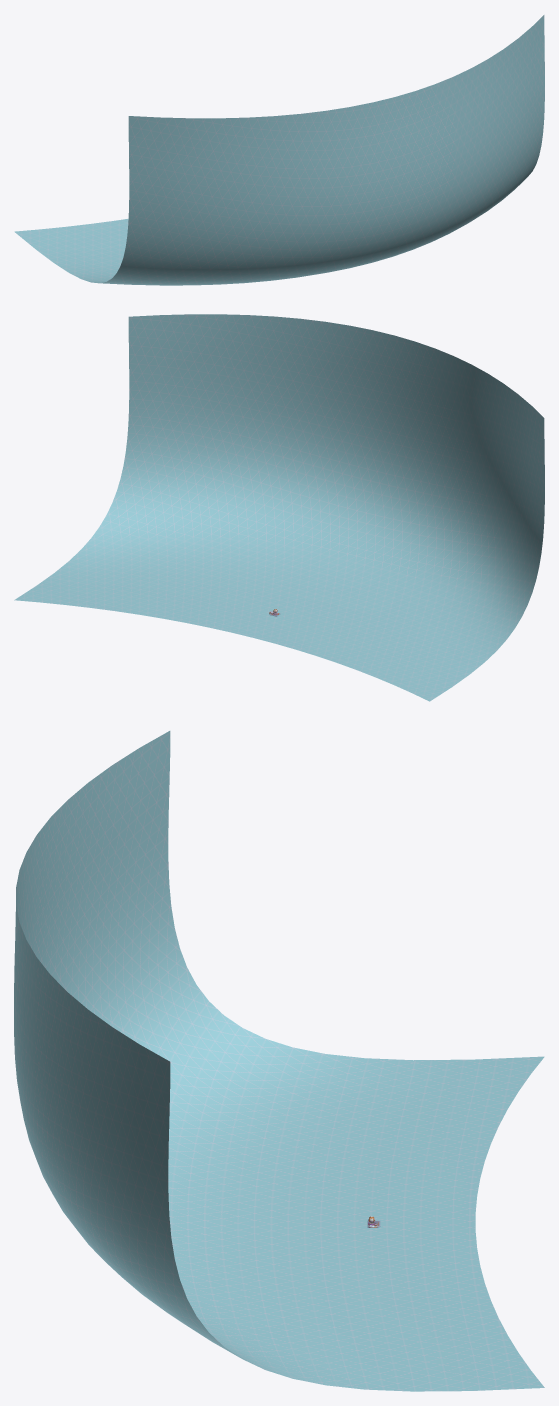
File: pref_lobby_lottery01_lv3.fbx
3 renders of one model, top to bottom at view 1: azimuth 30°, elevation 25°; view 2: azimuth 150°, elevation 25°; view 3: azimuth 270°, elevation 25°, orthographic. The views are drawn at different scales.
Visible parts, largest first — view 1: pref_sm_choujiangjiemian_bj03_lv3; view 2: pref_sm_choujiangjiemian_bj03_lv3; view 3: pref_sm_choujiangjiemian_bj03_lv3.
Part boxes in pixels (x1,y1,x2,y2): pref_sm_choujiangjiemian_bj03_lv3: (14,15,544,285); pref_sm_choujiangjiemian_bj03_lv3: (14,314,544,701); pref_sm_choujiangjiemian_bj03_lv3: (14,731,544,1391).
Size of the model in its own units: 241 by 112 by 163.
